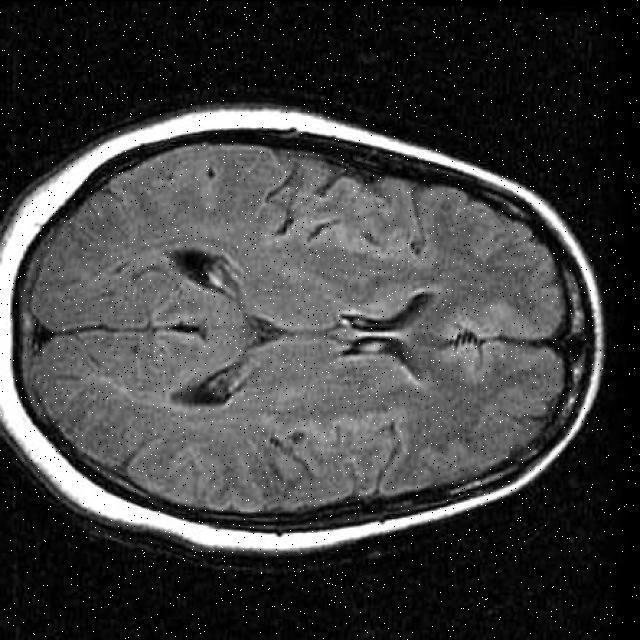No_Tumor: (0, 108, 603, 554)
